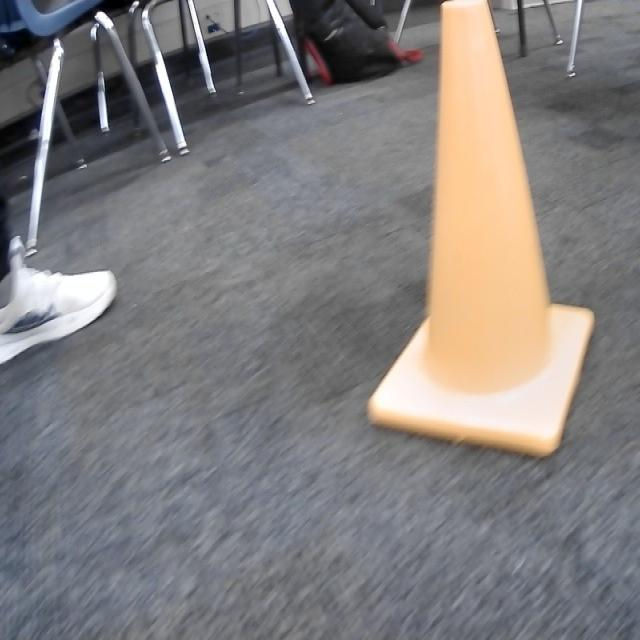cone: (367, 0, 595, 462)
